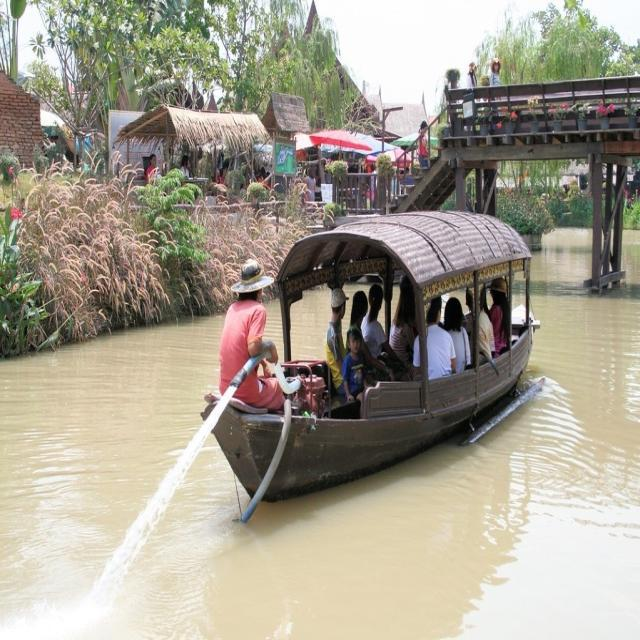boat: (213, 207, 552, 498)
